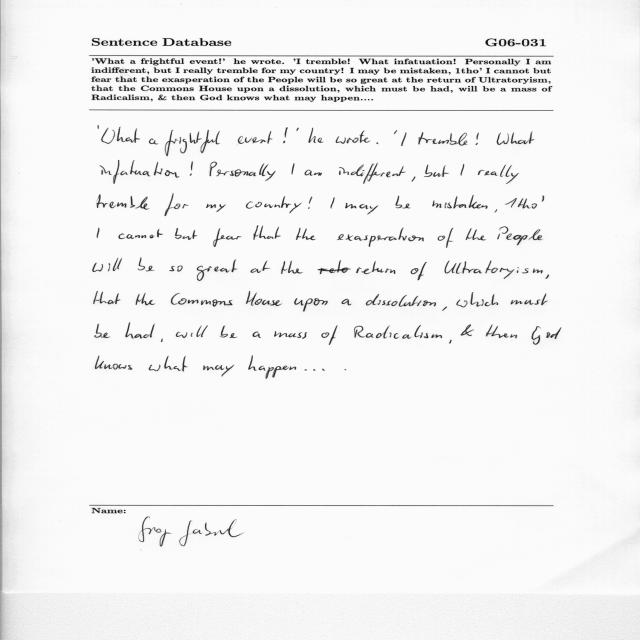word: (100, 160, 180, 184), (445, 261, 543, 279), (337, 228, 424, 247), (165, 130, 220, 156), (339, 163, 406, 184), (209, 162, 276, 181), (354, 325, 442, 339), (248, 356, 296, 379), (318, 260, 395, 274), (246, 196, 302, 213), (366, 294, 436, 307), (197, 259, 237, 281), (498, 226, 543, 245), (171, 293, 232, 307), (97, 194, 150, 210), (432, 195, 488, 209), (478, 165, 519, 184), (418, 132, 468, 146), (101, 127, 140, 144), (457, 293, 499, 308), (149, 356, 188, 371), (164, 193, 189, 216), (532, 326, 562, 345), (213, 228, 242, 247), (246, 291, 281, 306), (497, 131, 534, 145), (96, 356, 133, 370), (505, 196, 544, 209), (125, 323, 155, 339), (294, 298, 328, 312), (238, 131, 273, 144), (118, 229, 163, 239), (511, 293, 548, 305), (336, 131, 370, 144), (486, 325, 517, 339), (253, 225, 281, 240), (176, 325, 208, 338), (345, 203, 379, 215), (93, 258, 122, 272), (94, 291, 121, 304), (203, 365, 234, 376), (321, 325, 338, 345), (438, 228, 454, 248), (410, 262, 427, 280), (424, 165, 449, 177), (281, 261, 303, 274), (175, 228, 197, 240), (274, 331, 307, 339), (466, 228, 486, 241), (296, 228, 315, 241), (309, 127, 324, 143), (136, 293, 156, 305), (251, 261, 270, 273), (138, 258, 154, 272), (95, 324, 110, 338), (220, 326, 237, 338), (396, 196, 411, 209), (206, 204, 226, 212), (461, 324, 474, 336), (304, 170, 322, 176), (401, 132, 407, 146), (169, 266, 183, 272), (283, 127, 288, 143), (253, 331, 262, 338), (342, 299, 352, 305), (149, 139, 158, 145), (308, 196, 312, 209), (461, 164, 465, 176), (190, 161, 193, 176), (331, 198, 335, 209), (304, 369, 325, 371), (476, 133, 479, 145), (292, 164, 295, 175), (97, 228, 100, 238), (442, 306, 447, 311), (412, 177, 416, 182), (546, 274, 549, 279), (394, 130, 397, 134), (495, 209, 498, 213), (161, 338, 163, 342), (449, 340, 451, 344), (297, 128, 299, 131), (376, 142, 379, 144), (98, 125, 99, 129), (345, 369, 347, 370)
